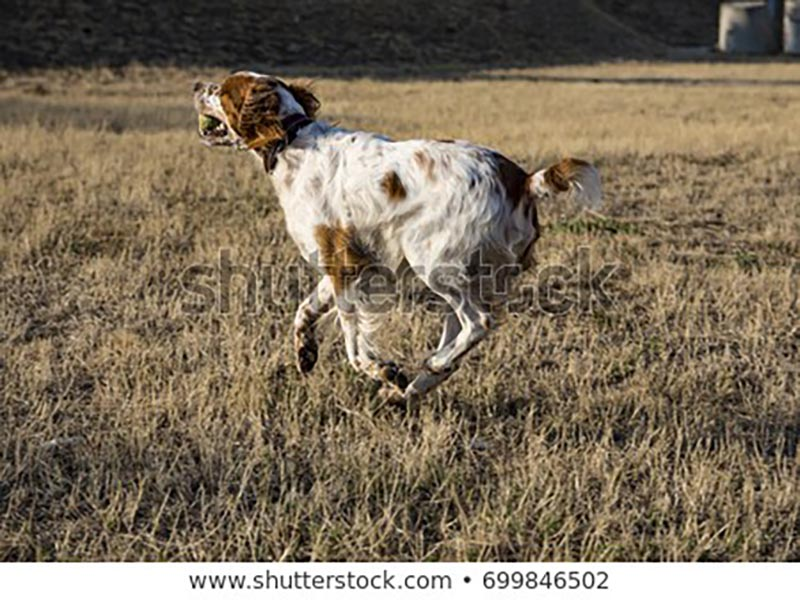cane da caccia: (192, 68, 612, 409)
